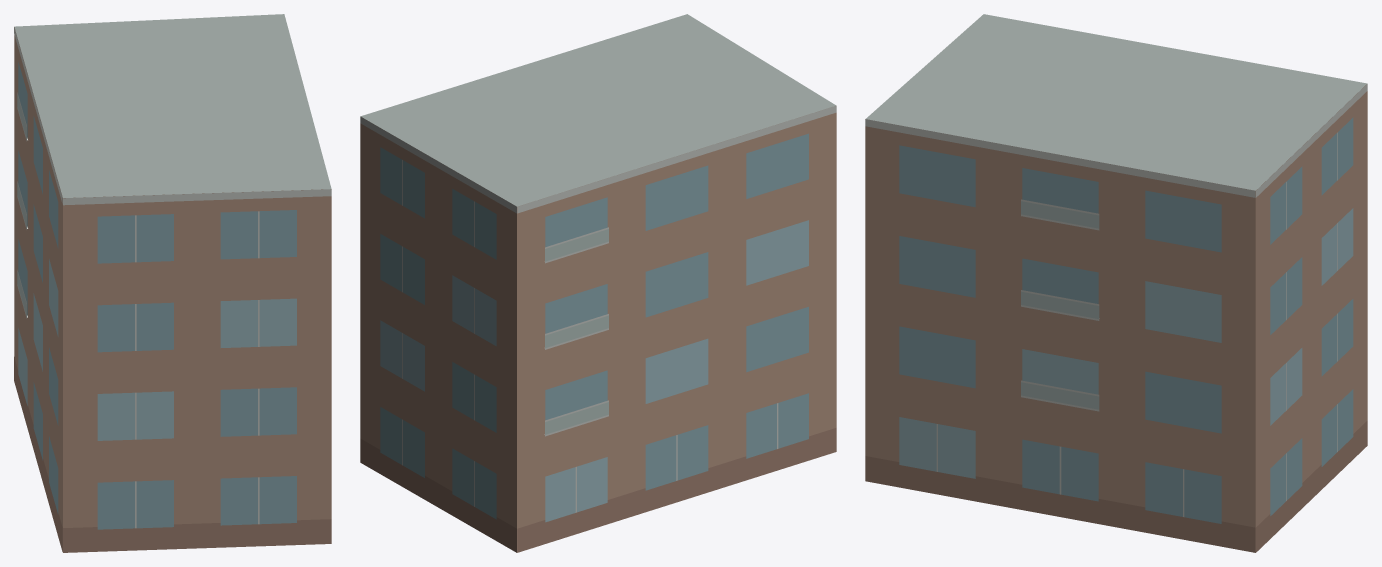
File: survey-upis-32622158.glb
3 renders of one model, left to right at view 1: azimuth 30°, elevation 25°; view 2: azimuth 150°, elevation 25°; view 3: azimuth 270°, elevation 25°, orthographic. The views are drawn at different scales.
Visible parts, largest first — view 1: survey-upis-32622158.tmp; view 2: survey-upis-32622158.tmp; view 3: survey-upis-32622158.tmp.
Part boxes in pixels (x1,y1,x2,y2): survey-upis-32622158.tmp: [14, 14, 331, 552]; survey-upis-32622158.tmp: [360, 14, 836, 552]; survey-upis-32622158.tmp: [865, 14, 1367, 552].
Size of the model in its own units: 12.79 by 12.21 by 15.35.
